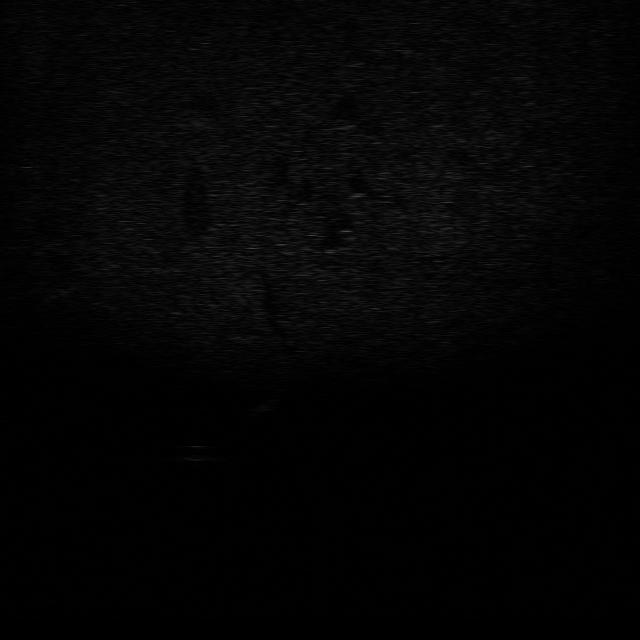ball: (166, 440, 222, 464)
human body: (246, 384, 285, 424)
